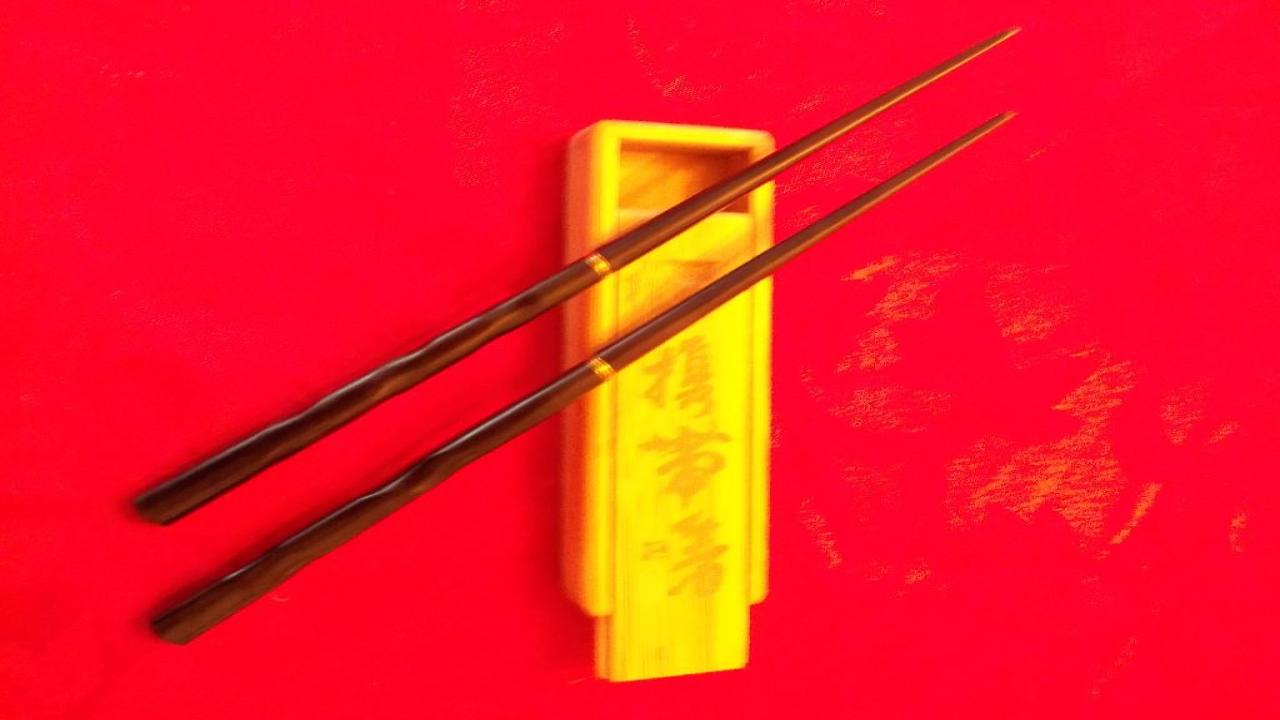chopstick: (132, 26, 1024, 648)
